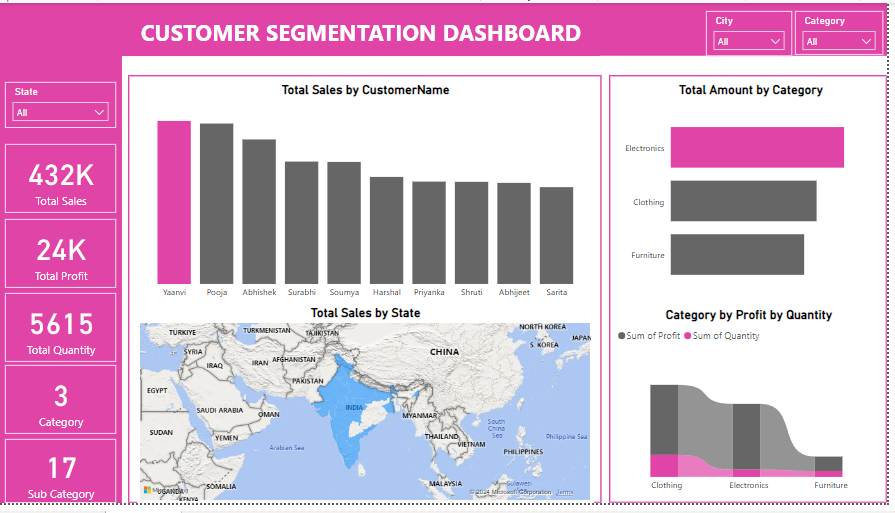

The dashboard page shown, as its layout file describes it:
{"tool":"powerbi","page":{"name":"Page 1","canvas":[1280,720],"ordinal":0},"visuals":[{"type":"shape","box":[186.5,104.1,682,616.5],"z":0},{"type":"shape","box":[0,0,177.1,720],"z":1000},{"type":"shape","box":[878.4,103.7,400.3,616.3],"z":2000},{"type":"shape","box":[0,0,1280.2,76.3],"z":3000},{"type":"barChart","title":"Total Amount by Category","fields":{"Category":["Order Details.Category"],"Y":["Order Details.Amount"]},"box":[891.4,113.8,383,316.8],"z":4000},{"type":"ribbonChart","title":"Category by Profit by Quantity","fields":{"Category":["Order Details.Category"],"Y":["Order Details.Profit","Order Details.Quantity"]},"box":[885.6,437.8,388.8,275],"z":5000},{"type":"columnChart","fields":{"Category":["List of Orders.CustomerName"],"Y":["Order Details.Amount"]},"box":[198.2,114.2,658.5,320.8],"z":6000},{"type":"filledMap","fields":{"Category":["List of Orders.State"]},"box":[198.2,435.1,658.5,285.6],"z":7000},{"type":"card","fields":{"Values":["Order Details.Amount"]},"box":[8.6,203,159.8,99.4],"z":8000},{"type":"card","fields":{"Values":["Order Details.Profit"]},"box":[8.6,311,159.8,99.4],"z":9000},{"type":"card","fields":{"Values":["Order Details.Quantity"]},"box":[8.6,417.6,159.8,99.4],"z":10000},{"type":"card","fields":{"Values":["Order Details.Category"]},"box":[8.6,521.3,159.8,99.4],"z":11000},{"type":"card","fields":{"Values":["Order Details.Sub_Category"]},"box":[8.6,627.8,159.8,92.2],"z":12000},{"type":"slicer","fields":{"Values":["List of Orders.State"]},"box":[8.4,114.2,159.6,65.5],"z":13000},{"type":"slicer","fields":{"Values":["List of Orders.City"]},"box":[1018.1,11.5,123.8,64.8],"z":14000},{"type":"textbox","box":[177.1,14.4,688.3,61.9],"z":15000},{"type":"slicer","fields":{"Values":["Sales target.Category"]},"box":[1146.2,11.5,126.7,63.4],"z":16000}]}

Visuals, with their boxes in screenshot pixels (x1, y1, x2, y2), scaled from the page's 1280x720 canvas onto the 895x513 screenshot:
shape: <bbox>130, 74, 607, 512</bbox>
shape: <bbox>0, 0, 124, 512</bbox>
shape: <bbox>614, 74, 894, 512</bbox>
shape: <bbox>0, 0, 894, 54</bbox>
"Total Amount by Category" barChart: <bbox>623, 81, 891, 307</bbox>
"Category by Profit by Quantity" ribbonChart: <bbox>619, 312, 891, 508</bbox>
columnChart - List of Orders.CustomerName x Order Details.Amount: <bbox>139, 81, 599, 310</bbox>
filledMap - List of Orders.State: <bbox>139, 310, 599, 512</bbox>
card - Order Details.Amount: <bbox>6, 145, 118, 215</bbox>
card - Order Details.Profit: <bbox>6, 222, 118, 292</bbox>
card - Order Details.Quantity: <bbox>6, 298, 118, 368</bbox>
card - Order Details.Category: <bbox>6, 371, 118, 442</bbox>
card - Order Details.Sub_Category: <bbox>6, 447, 118, 512</bbox>
slicer - List of Orders.State: <bbox>6, 81, 117, 128</bbox>
slicer - List of Orders.City: <bbox>712, 8, 798, 54</bbox>
textbox: <bbox>124, 10, 605, 54</bbox>
slicer - Sales target.Category: <bbox>801, 8, 890, 53</bbox>
